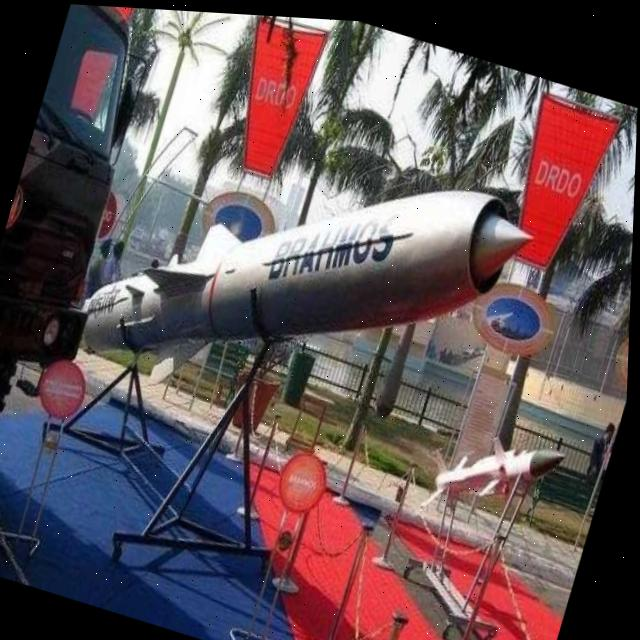missile: (71, 69, 548, 471)
